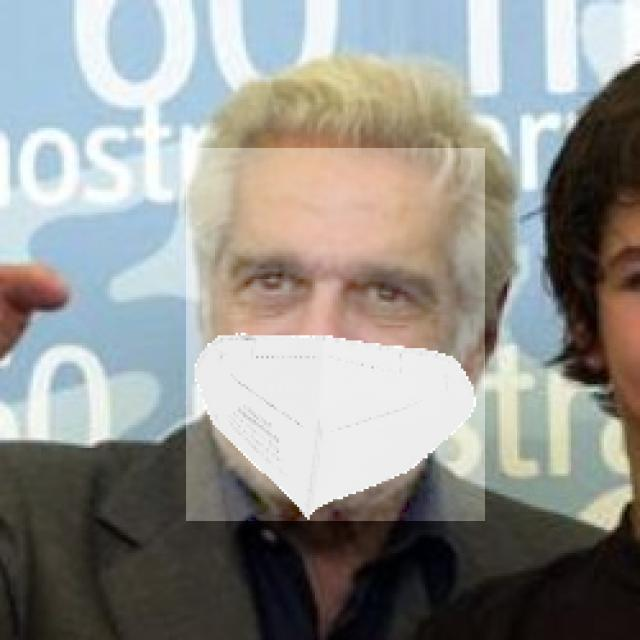kn95: (186, 148, 485, 521)
